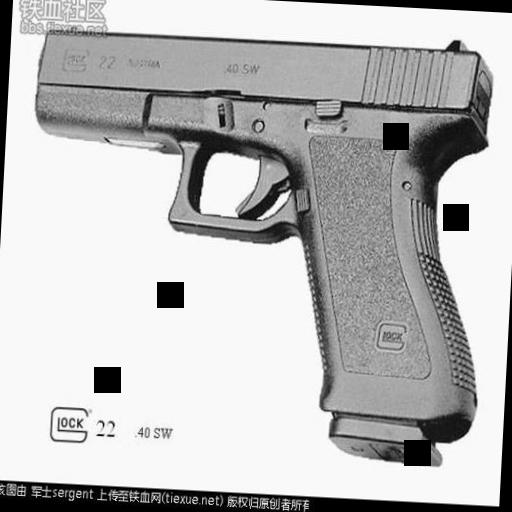Handgun: (14, 16, 494, 470)
